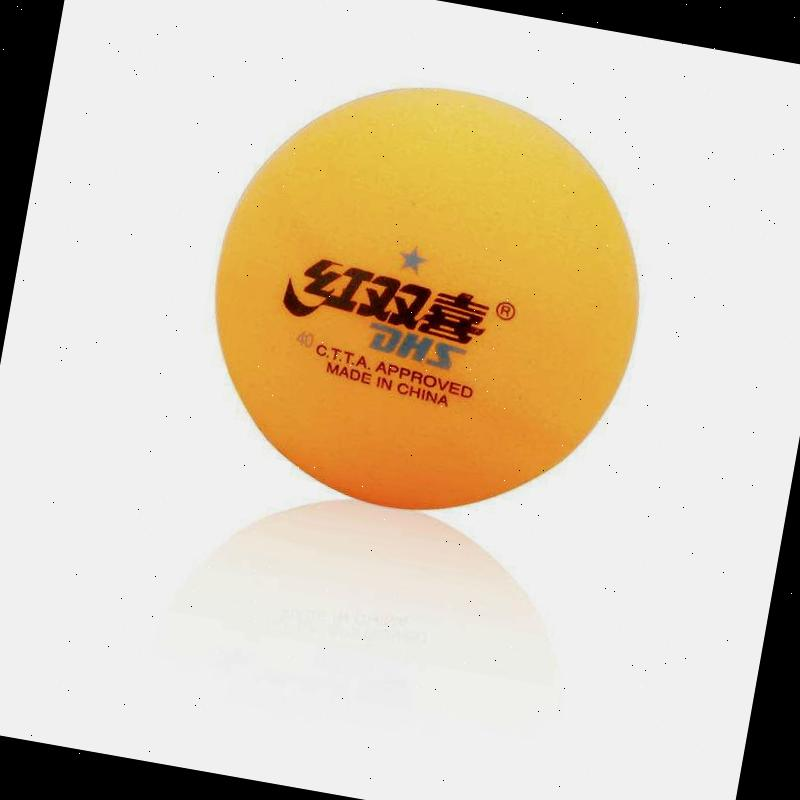ball: (169, 44, 678, 551)
